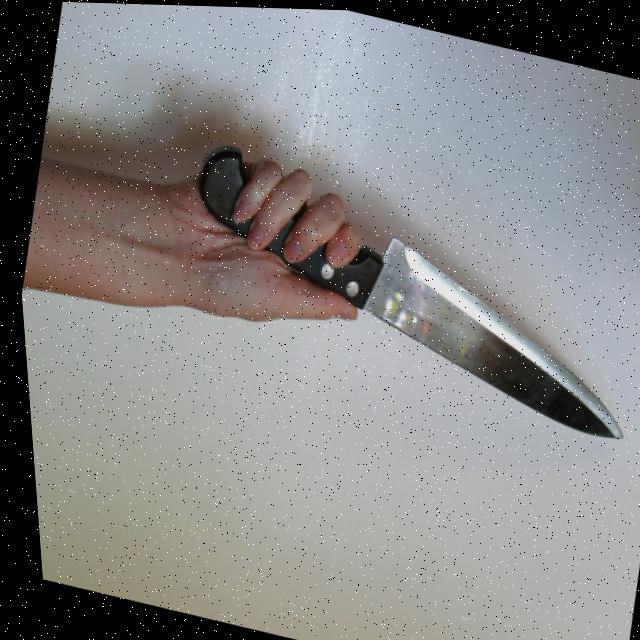knife: (161, 137, 640, 441)
